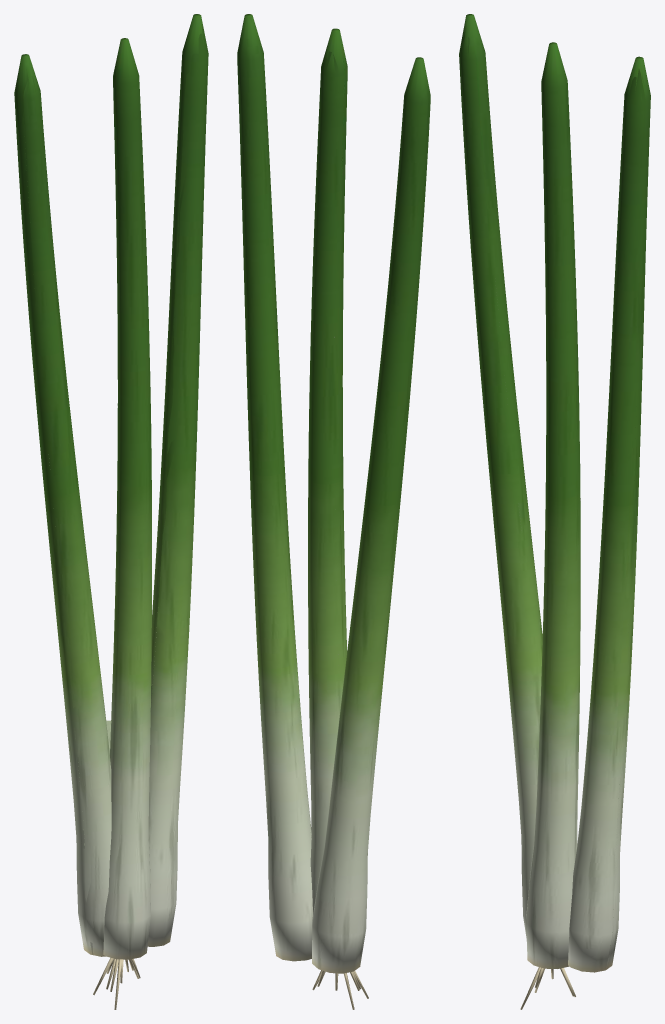
The model's file is oignon-vert.glb.
3 renders of one model, left to right at view 1: azimuth 30°, elevation 25°; view 2: azimuth 150°, elevation 25°; view 3: azimuth 330°, elevation 25°, orthographic.
Parts seen in each view (by area): view 1: moitie_A_peau, entier_peau, moitie_B_peau, moitie_A_extra0; view 2: moitie_B_peau, entier_peau, moitie_A_peau; view 3: entier_peau, moitie_A_peau, moitie_B_peau.
Part boxes in pixels (x1,y1,x2,y2): moitie_A_peau: (23, 25, 208, 959); entier_peau: (14, 14, 208, 956); moitie_B_peau: (14, 14, 205, 954); moitie_A_extra0: (102, 957, 140, 1009); moitie_B_peau: (237, 14, 430, 973); entier_peau: (237, 14, 430, 972); moitie_A_peau: (264, 28, 367, 883); entier_peau: (460, 14, 650, 972); moitie_A_peau: (459, 37, 645, 972); moitie_B_peau: (459, 14, 650, 964).
Bounding box in the file's own units: 0.0652 × 0.3158 × 0.0209.
Materials: 3 (2 with a texture image).
